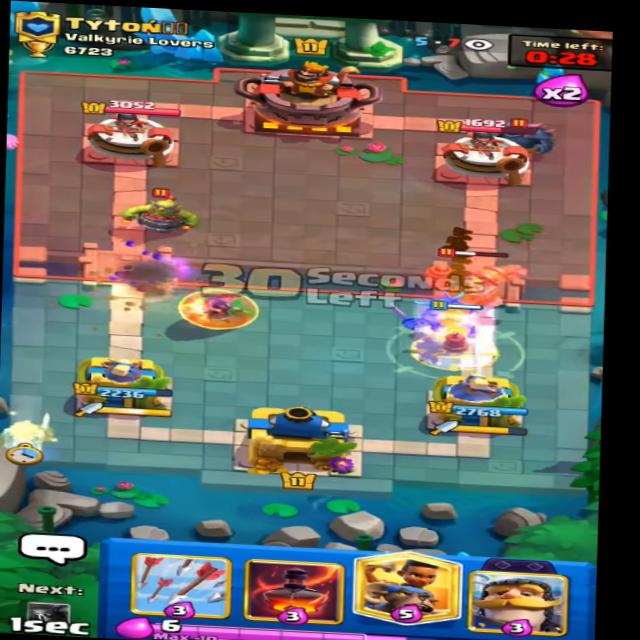goblin-demolisher: (120, 186, 214, 236)
goblin-machine: (425, 248, 528, 308)
pekka: (474, 112, 569, 161)
